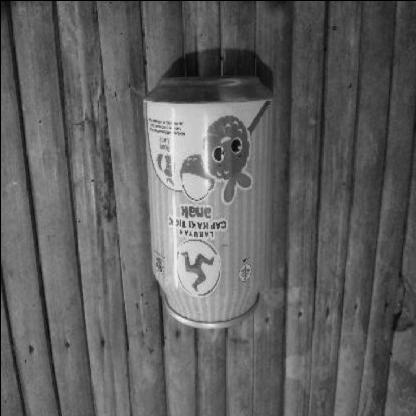alumunium_can: (143, 66, 275, 334)
